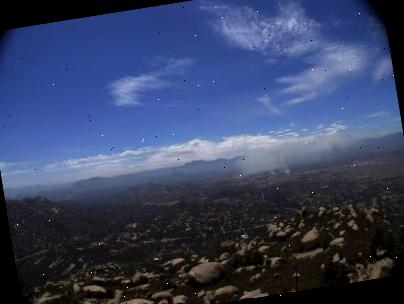smoke: (232, 116, 374, 184)
